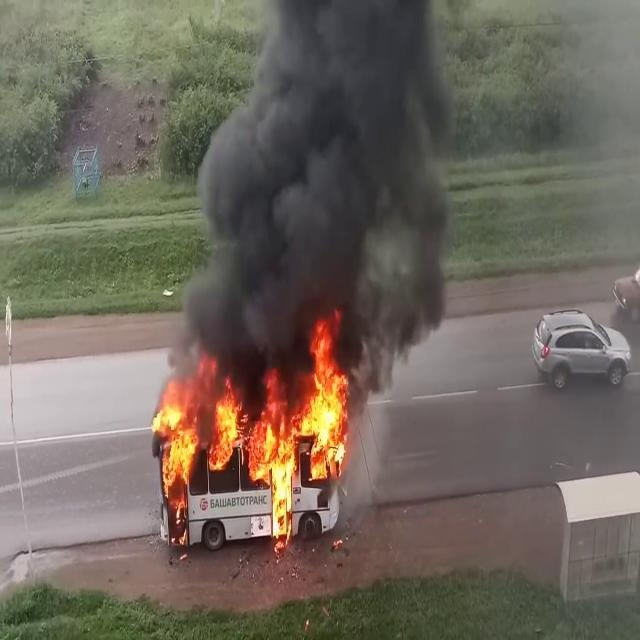Fire: (150, 342, 354, 530)
Smoke: (171, 1, 467, 371)
